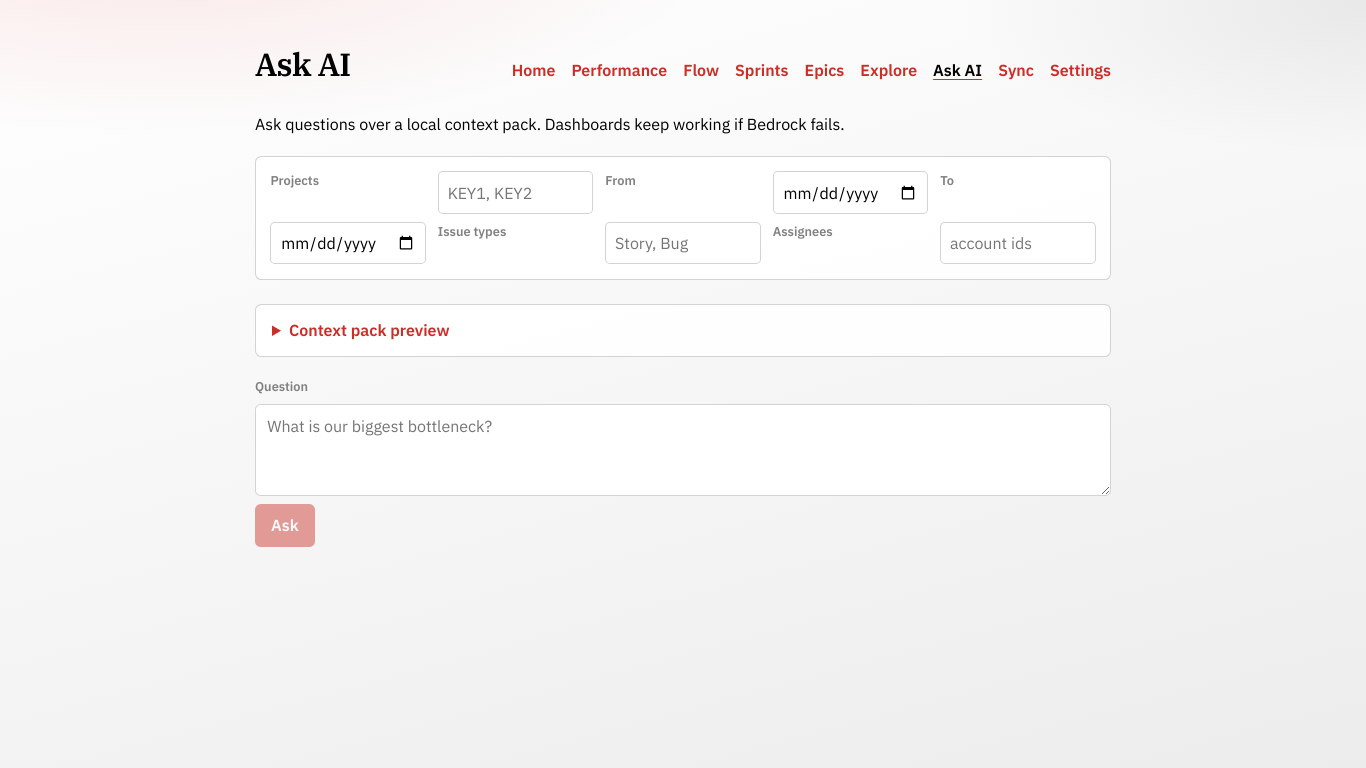
AskAiPage › shows citations returned by ask_ai
The width and height of the screenshot is (1366, 768).
Type "Where is the bottleneck?" into the text box labelled "Question" at (683, 450), box left=255, top=404, right=1111, bottom=496
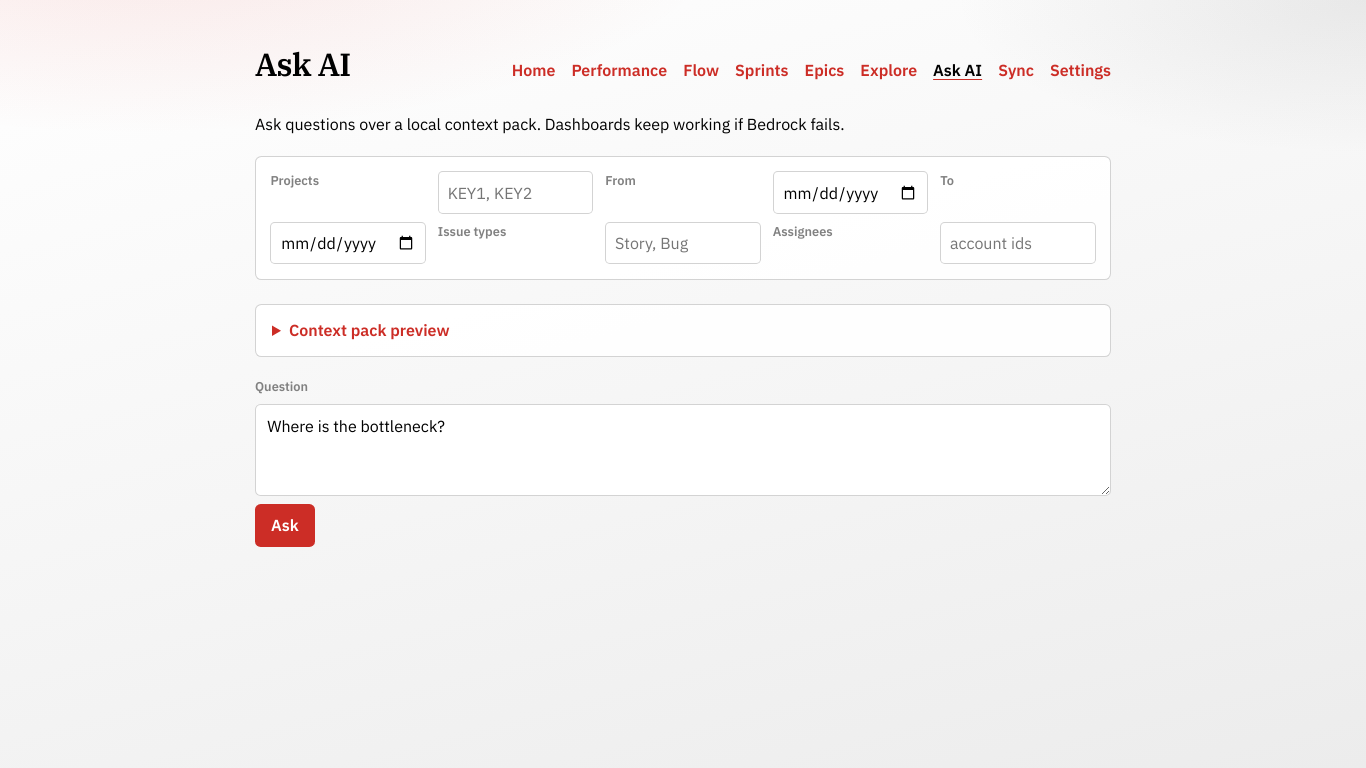
Click the button "Ask" at (285, 525), box left=255, top=504, right=315, bottom=547
(page scrolled)
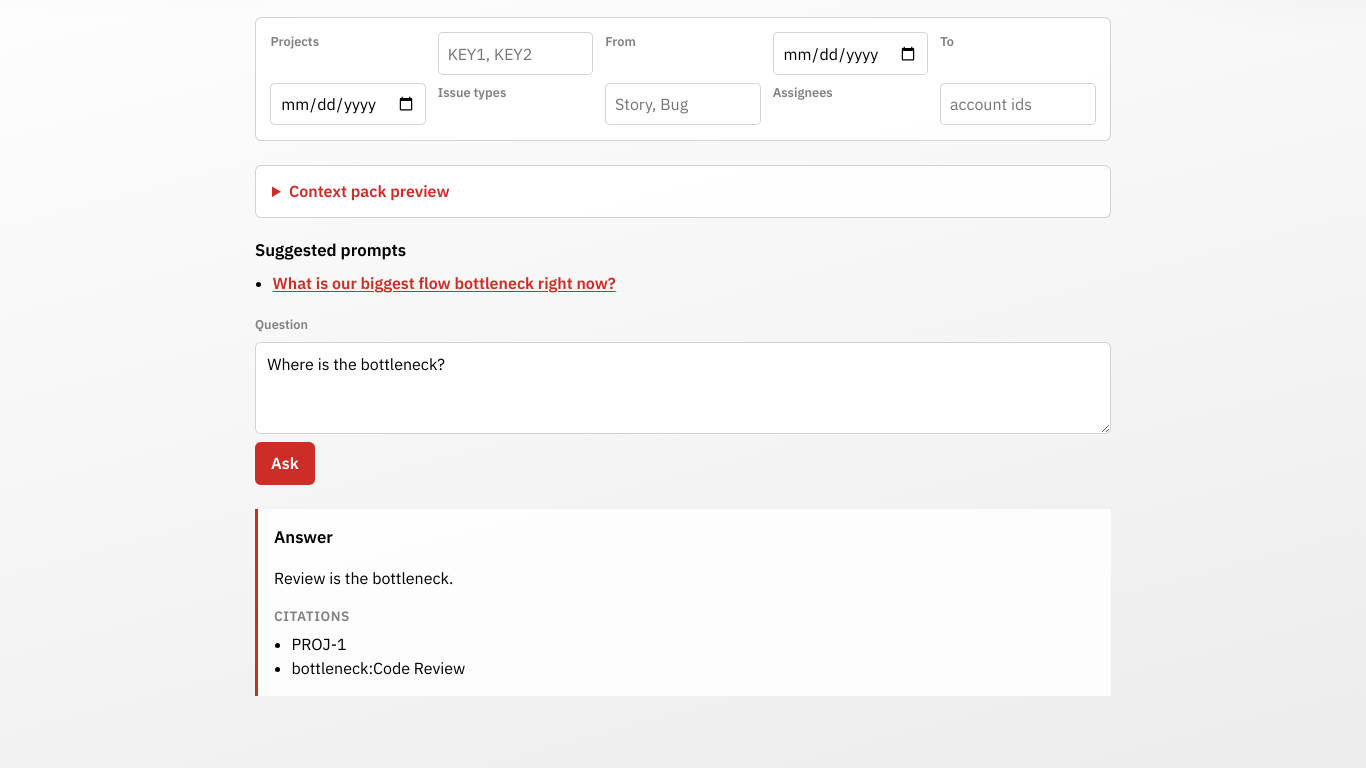
Result: the list item "PROJ-1" is shown at left=292, top=634, right=347, bottom=654
